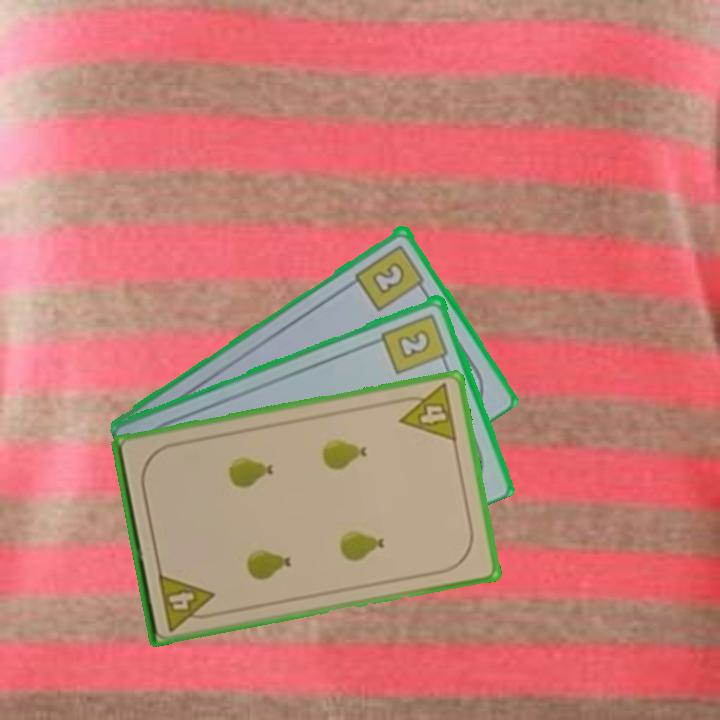2b: (351, 240, 430, 314), (378, 309, 452, 377)
4p: (393, 380, 460, 445), (154, 569, 220, 634)
